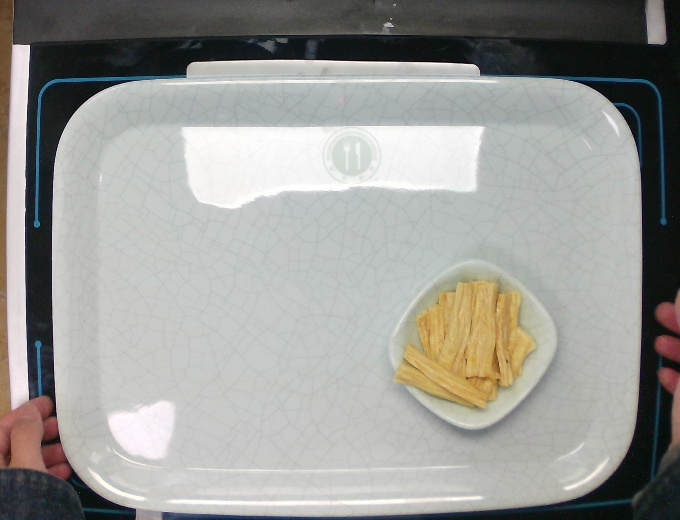JYsf-Si_Fang_Die: (388, 262, 557, 436)
